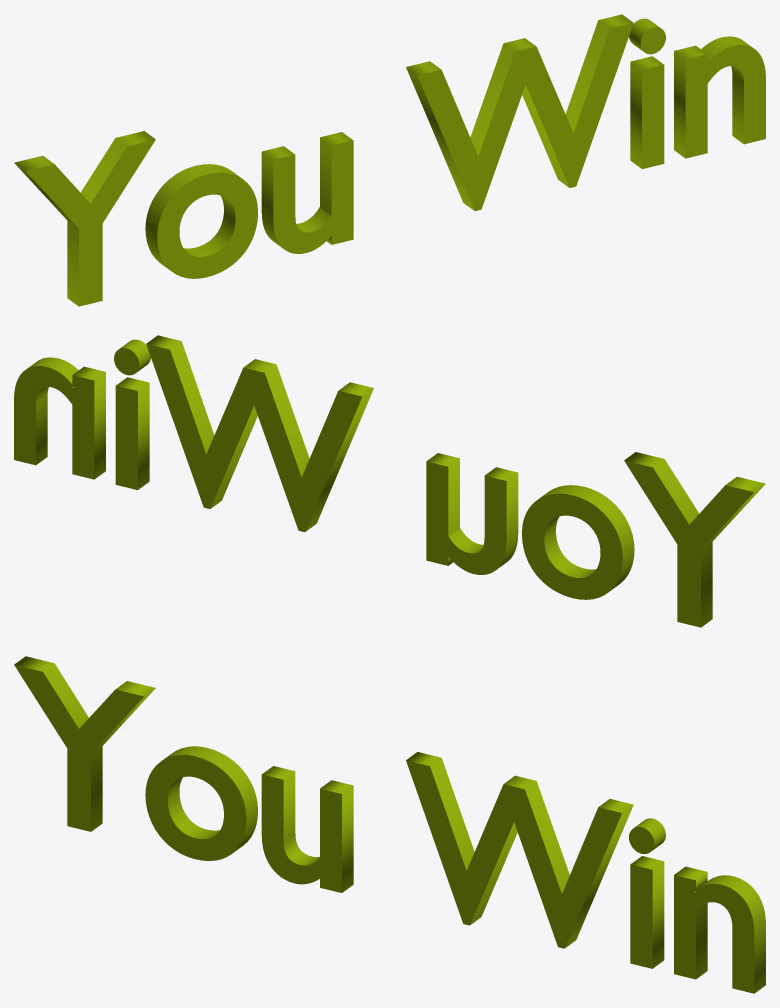
Rendered from win.obj.
The picture shows the model from 3 angles, top to bottom: view 1: azimuth 30°, elevation 25°; view 2: azimuth 150°, elevation 25°; view 3: azimuth 330°, elevation 25°; orthographic projection.
Parts seen in each view (by area): view 1: Text; view 2: Text; view 3: Text.
Boxes of the visible parts, <box> form: Text: <box>14,14,765,306</box>; Text: <box>14,335,765,627</box>; Text: <box>14,656,765,993</box>.
Size of the model in its own units: 7.33 by 1.42 by 0.2.
